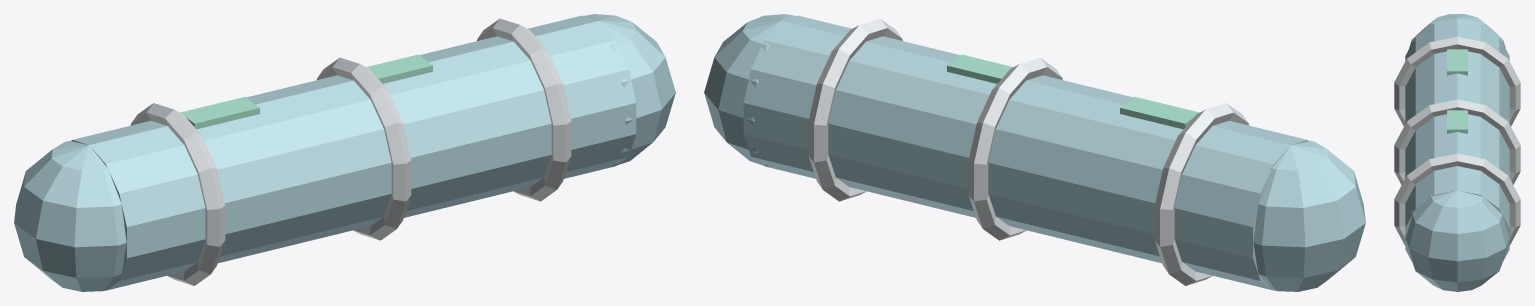
The model's file is tubo_comida_normal.glb.
3 renders of one model, left to right at view 1: azimuth 30°, elevation 25°; view 2: azimuth 150°, elevation 25°; view 3: azimuth 270°, elevation 25°, orthographic. The views are drawn at different scales.
Visible parts, largest first — view 1: tubo_comida_normal; view 2: tubo_comida_normal; view 3: tubo_comida_normal.
Part boxes in pixels (box(x1,y1,x2,y2)): tubo_comida_normal: box(14, 14, 675, 291); tubo_comida_normal: box(704, 14, 1365, 291); tubo_comida_normal: box(1394, 14, 1520, 291).
Bounding box in the file's own units: 1.96 × 0.498 × 0.4855.
